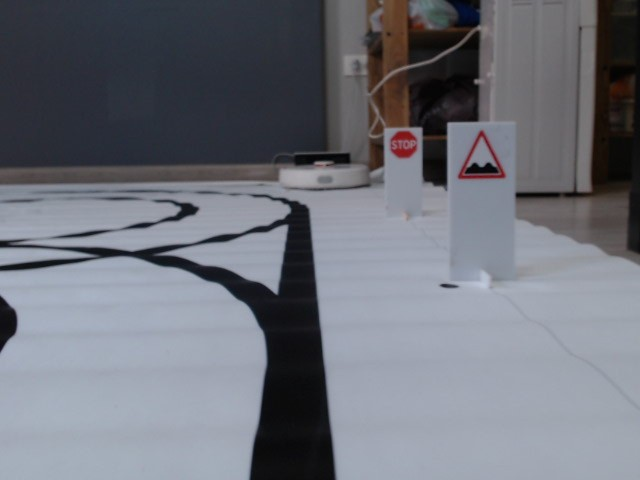Nerov: (457, 130, 507, 180)
Stop: (387, 129, 418, 158)
